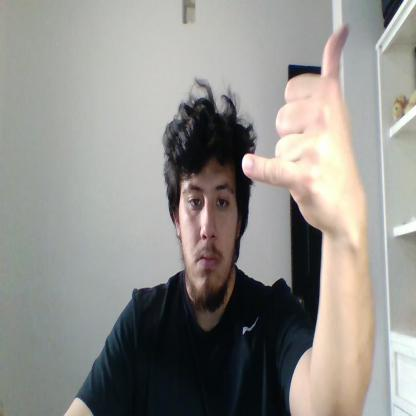Y: (242, 23, 364, 234)
